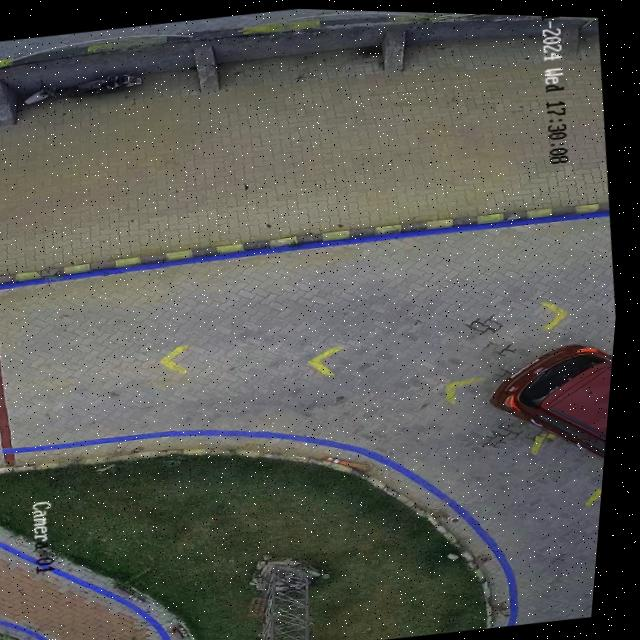car: (494, 340, 619, 455)
